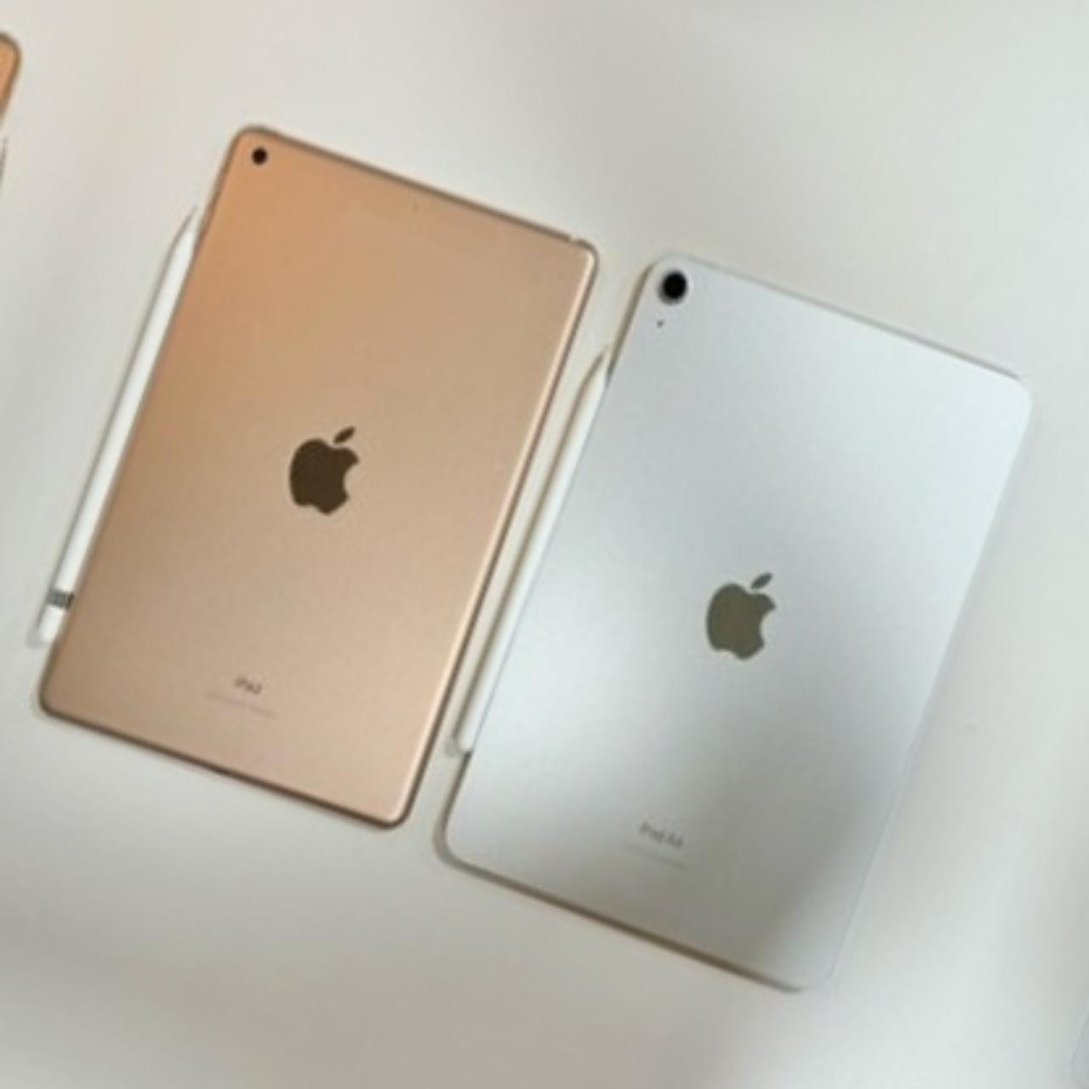Tablet_PC: (389, 224, 1059, 1017), (0, 92, 628, 856)
